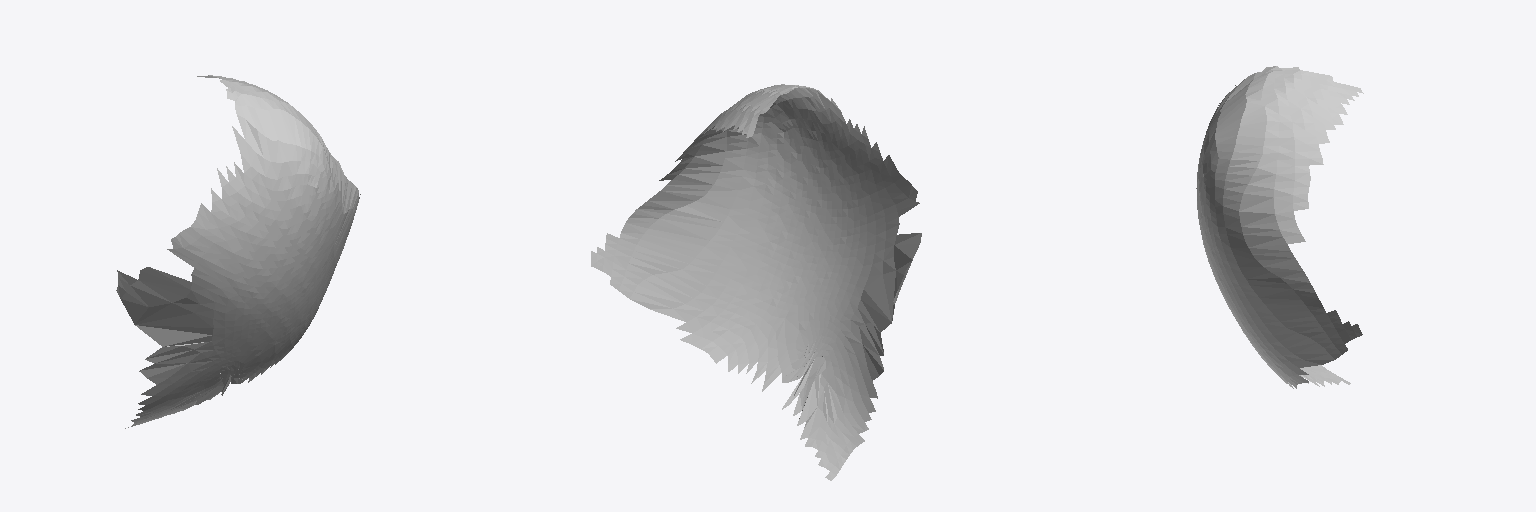
The model's file is Ex_Test_Remeshed_V.obj.
3 renders of one model, left to right at view 1: azimuth 30°, elevation 25°; view 2: azimuth 150°, elevation 25°; view 3: azimuth 270°, elevation 25°, orthographic.
Bounding box in the file's own units: 1.46 × 1.77 × 0.7646.